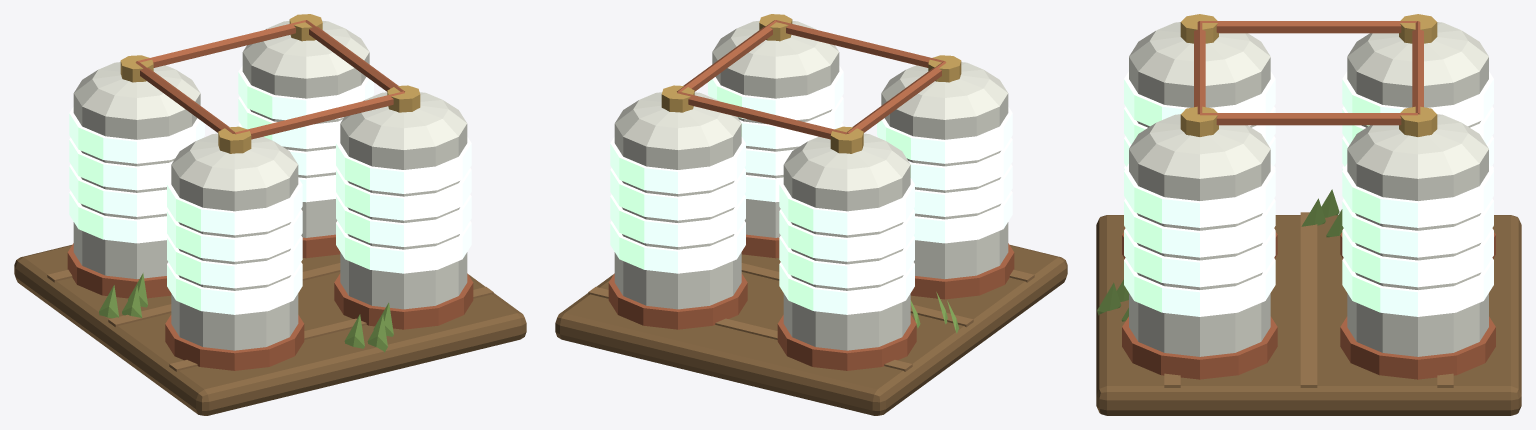
Rendered from battery.glb.
The picture shows the model from 3 angles, left to right: view 1: azimuth 30°, elevation 25°; view 2: azimuth 150°, elevation 25°; view 3: azimuth 270°, elevation 25°; orthographic projection. The views are drawn at different scales.
Parts seen in each view (by area): view 1: Battery_timber_deck, charge_3, charge_2, charge_1, charge_0, Battery_ceramic_cell, Battery_ceramic_cell.001, Battery_ceramic_cell.002, Battery_ceramic_cap, Battery_ceramic_cap.001, Battery_ceramic_cap.002, Battery_ceramic_cell.003 (+15 smaller); view 2: Battery_timber_deck, charge_3, charge_2, charge_1, charge_0, Battery_ceramic_cell.002, Battery_ceramic_cell.003, Battery_ceramic_cell, Battery_ceramic_cap.002, Battery_ceramic_cap.003, Battery_ceramic_cap, Battery_ceramic_cell.001 (+15 smaller); view 3: Battery_timber_deck, charge_3, Battery_ceramic_cell.001, Battery_ceramic_cell.003, charge_2, charge_1, charge_0, Battery_ceramic_cap.001, Battery_ceramic_cap.003, Battery_ceramic_cap, Battery_ceramic_cap.002, Battery_copper_foot.001 (+13 smaller).
Part boxes in pixels (x1,y1,x2,y2): Battery_timber_deck: [14, 245, 526, 415]; charge_3: [69, 65, 471, 235]; charge_2: [69, 96, 471, 261]; charge_1: [69, 123, 471, 288]; charge_0: [69, 175, 471, 314]; Battery_ceramic_cell: [171, 165, 298, 350]; Battery_ceramic_cell.001: [340, 124, 467, 309]; Battery_ceramic_cell.002: [73, 93, 200, 279]; Battery_ceramic_cap: [171, 133, 297, 191]; Battery_ceramic_cap.001: [340, 92, 466, 149]; Battery_ceramic_cap.002: [74, 62, 200, 119]; Battery_ceramic_cell.003: [242, 52, 369, 237]; Battery_timber_deck: [555, 245, 1067, 415]; charge_3: [610, 65, 1012, 235]; charge_2: [610, 96, 1012, 261]; charge_1: [610, 123, 1012, 288]; charge_0: [610, 175, 1012, 314]; Battery_ceramic_cell.002: [783, 165, 910, 350]; Battery_ceramic_cell.003: [614, 124, 741, 309]; Battery_ceramic_cell: [881, 93, 1008, 279]; Battery_ceramic_cap.002: [784, 133, 910, 191]; Battery_ceramic_cap.003: [615, 92, 741, 149]; Battery_ceramic_cap: [881, 62, 1007, 119]; Battery_ceramic_cell.001: [712, 52, 839, 237]; Battery_timber_deck: [1096, 215, 1521, 415]; charge_3: [1124, 71, 1493, 227]; Battery_ceramic_cell.001: [1129, 149, 1270, 356]; Battery_ceramic_cell.003: [1347, 149, 1488, 356]; charge_2: [1124, 106, 1493, 257]; charge_1: [1124, 136, 1493, 287]; charge_0: [1124, 166, 1493, 316]; Battery_ceramic_cap.001: [1129, 114, 1270, 178]; Battery_ceramic_cap.003: [1347, 114, 1488, 178]; Battery_ceramic_cap: [1129, 22, 1270, 85]; Battery_ceramic_cap.002: [1347, 22, 1488, 85]; Battery_copper_foot.001: [1122, 316, 1277, 379].
Bounding box in the file's own units: 1.56 × 1.07 × 1.56.
